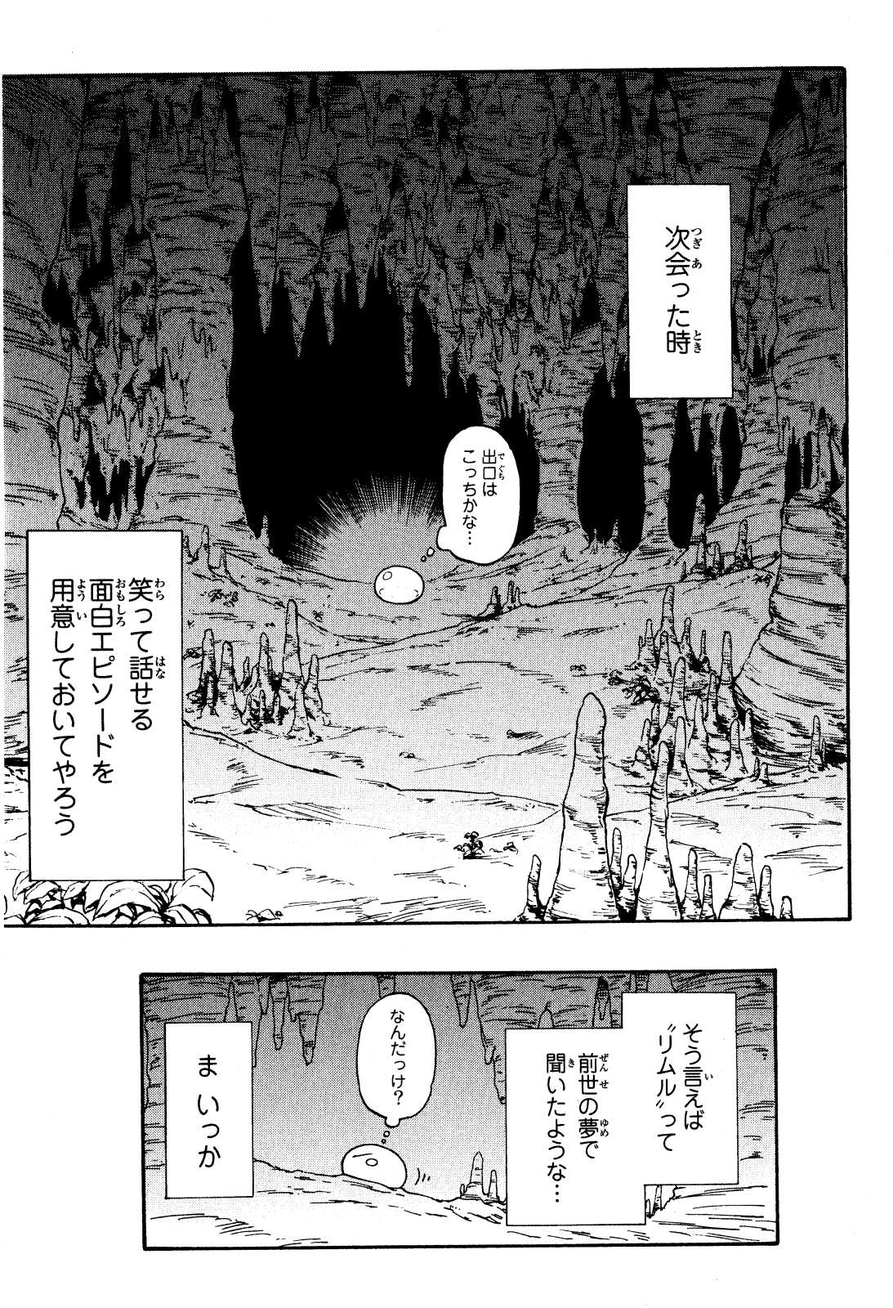bubbles: (19, 524, 188, 887), (495, 990, 746, 1228), (621, 176, 735, 406), (159, 1019, 256, 1201), (417, 419, 520, 580), (355, 988, 440, 1151)
